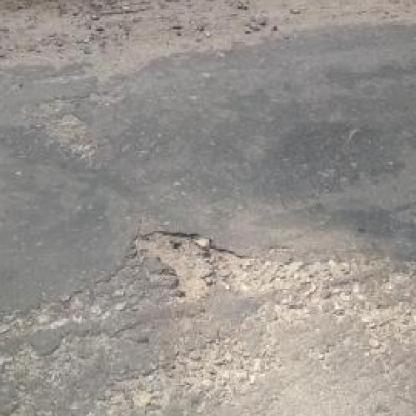pothole: (128, 228, 220, 306)
